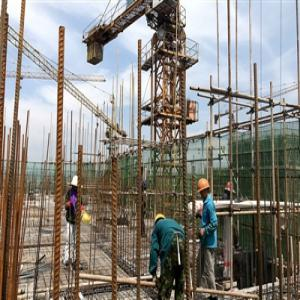none: (73, 174, 82, 193)
red: (226, 181, 236, 197)
yellow: (198, 179, 211, 199), (154, 213, 167, 228)
